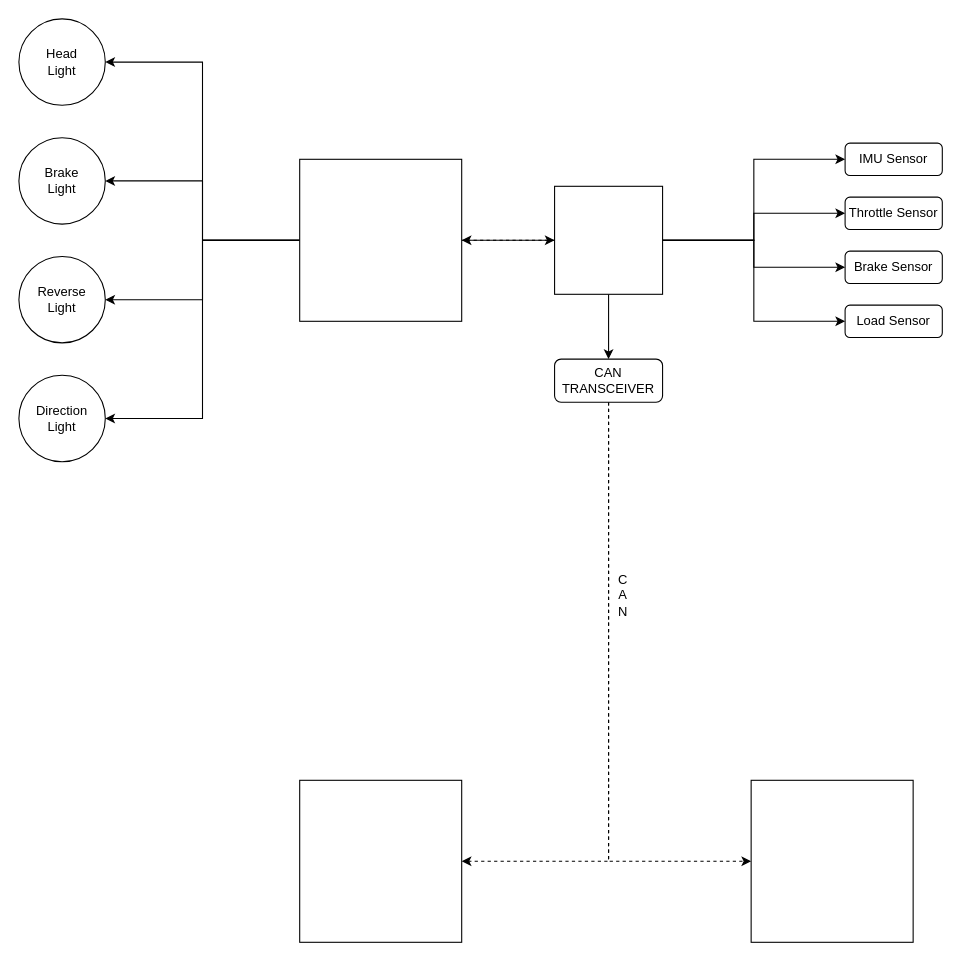
The diagram is 961 pixels wide and 961 high, and some of its shapes have lost their labels. Each missing label, with the centre of its shape:
BATTERY SYSTEM: the point at 380,860
BODY CONTROL MODULE: the point at 380,239
MOTOR CONTROLLER: the point at 831,860
STM32F4: the point at 608,239
